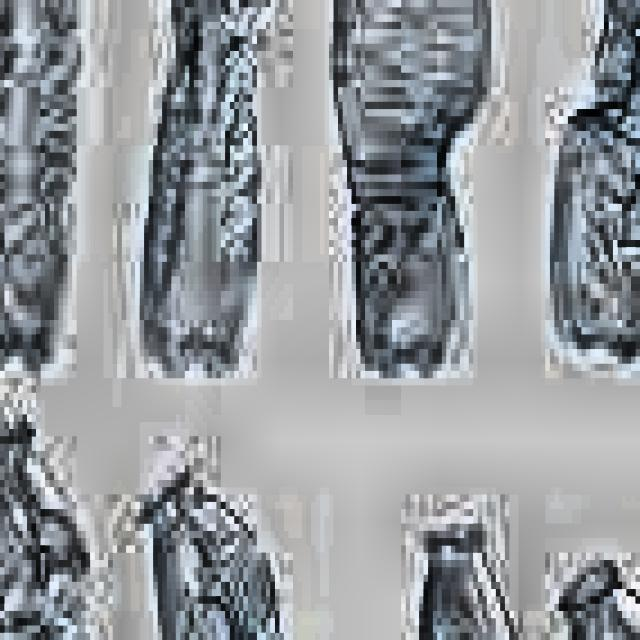plastic: (324, 0, 500, 393), (126, 0, 289, 393), (532, 0, 640, 393), (121, 443, 311, 640), (0, 0, 85, 385), (333, 480, 528, 640), (0, 407, 113, 640), (523, 523, 640, 640)
